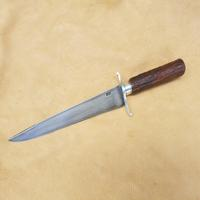knife: (4, 48, 187, 148)
